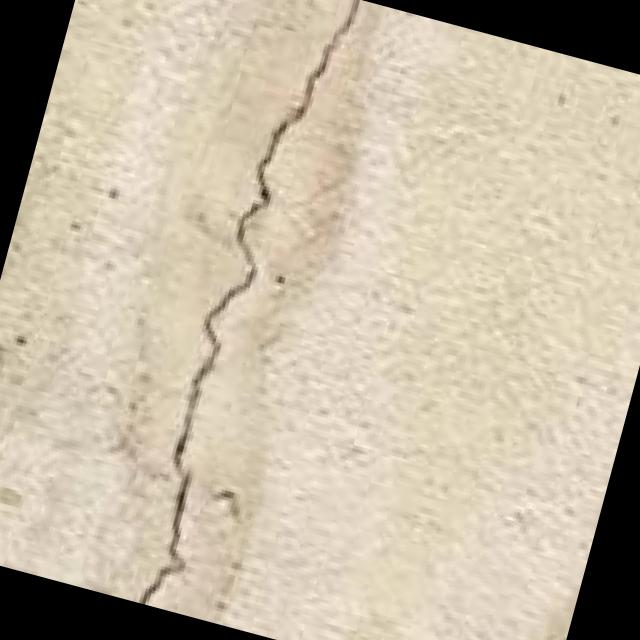crack: (52, 0, 423, 631)
